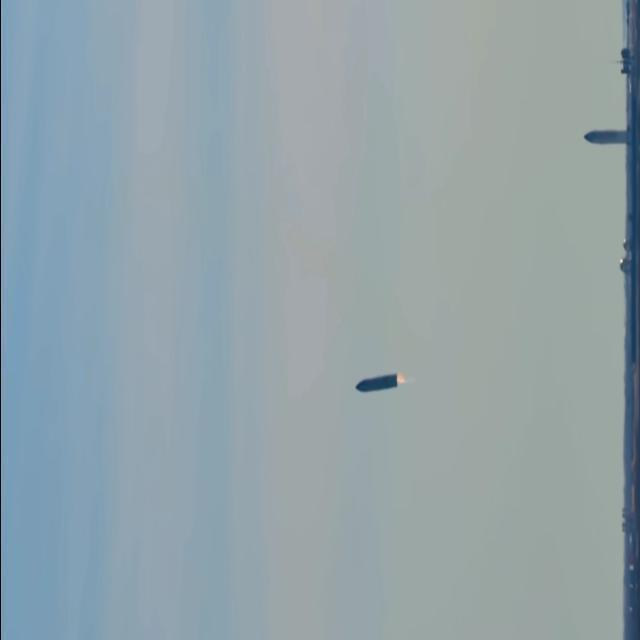missile: (356, 370, 402, 395)
